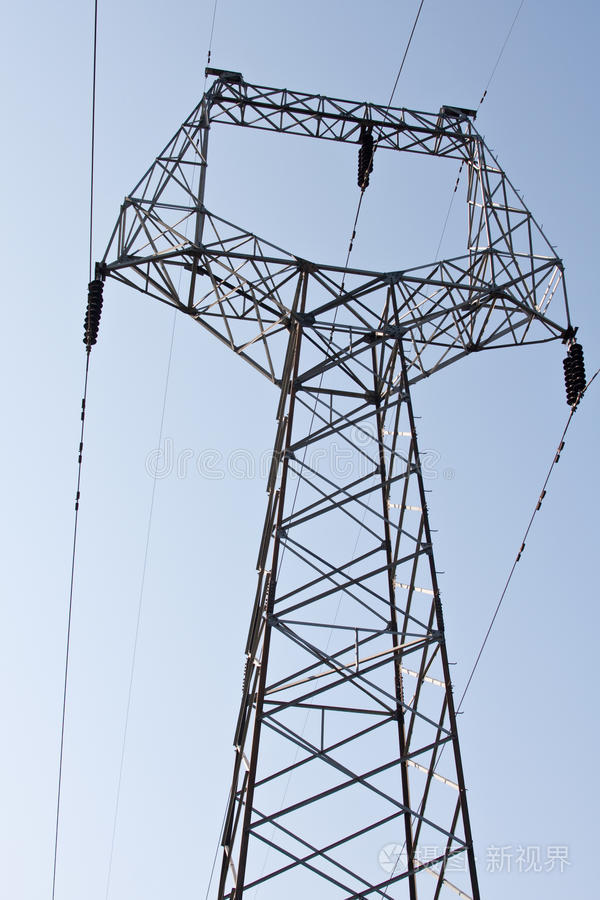insulator: (559, 343, 589, 404), (79, 281, 107, 345), (354, 145, 376, 183)
